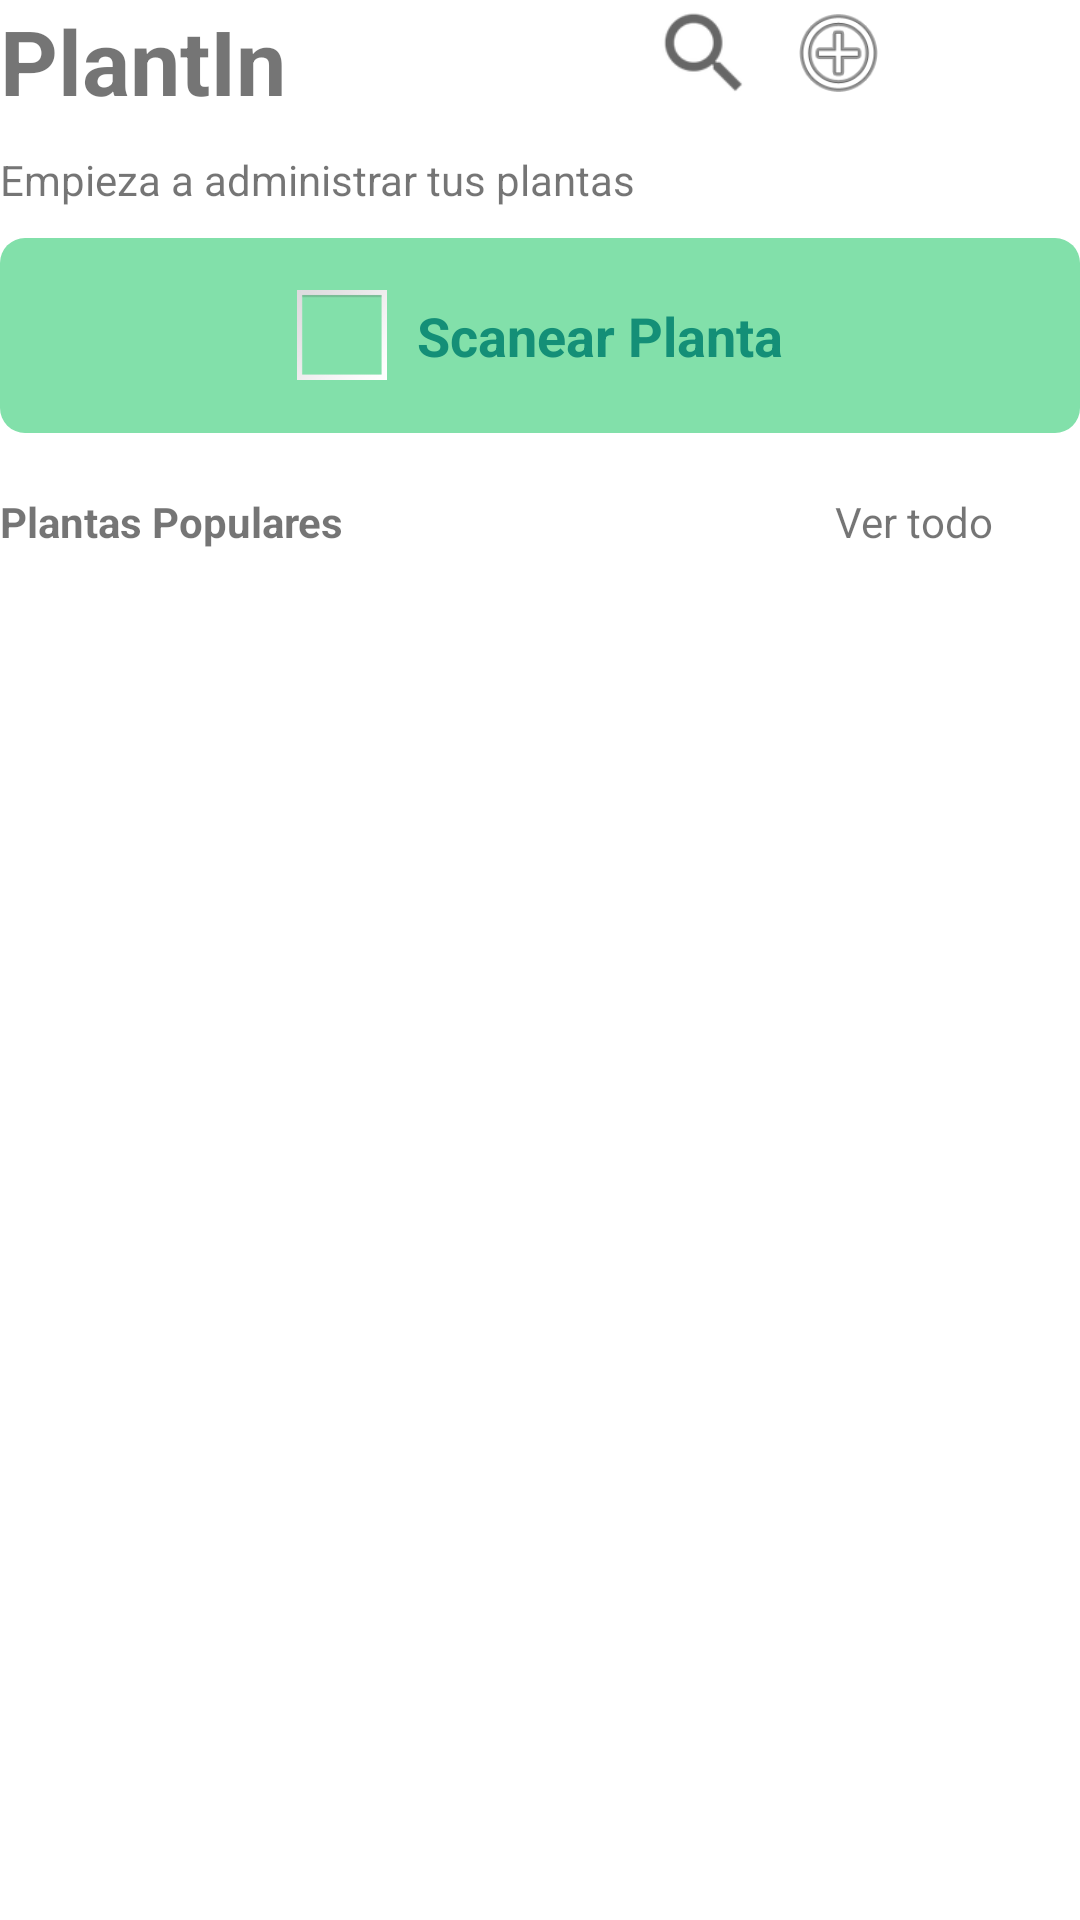

Point at icon controls on the screen. Image size 1080px×1920px, points as [x,y].
add: [838,53]
